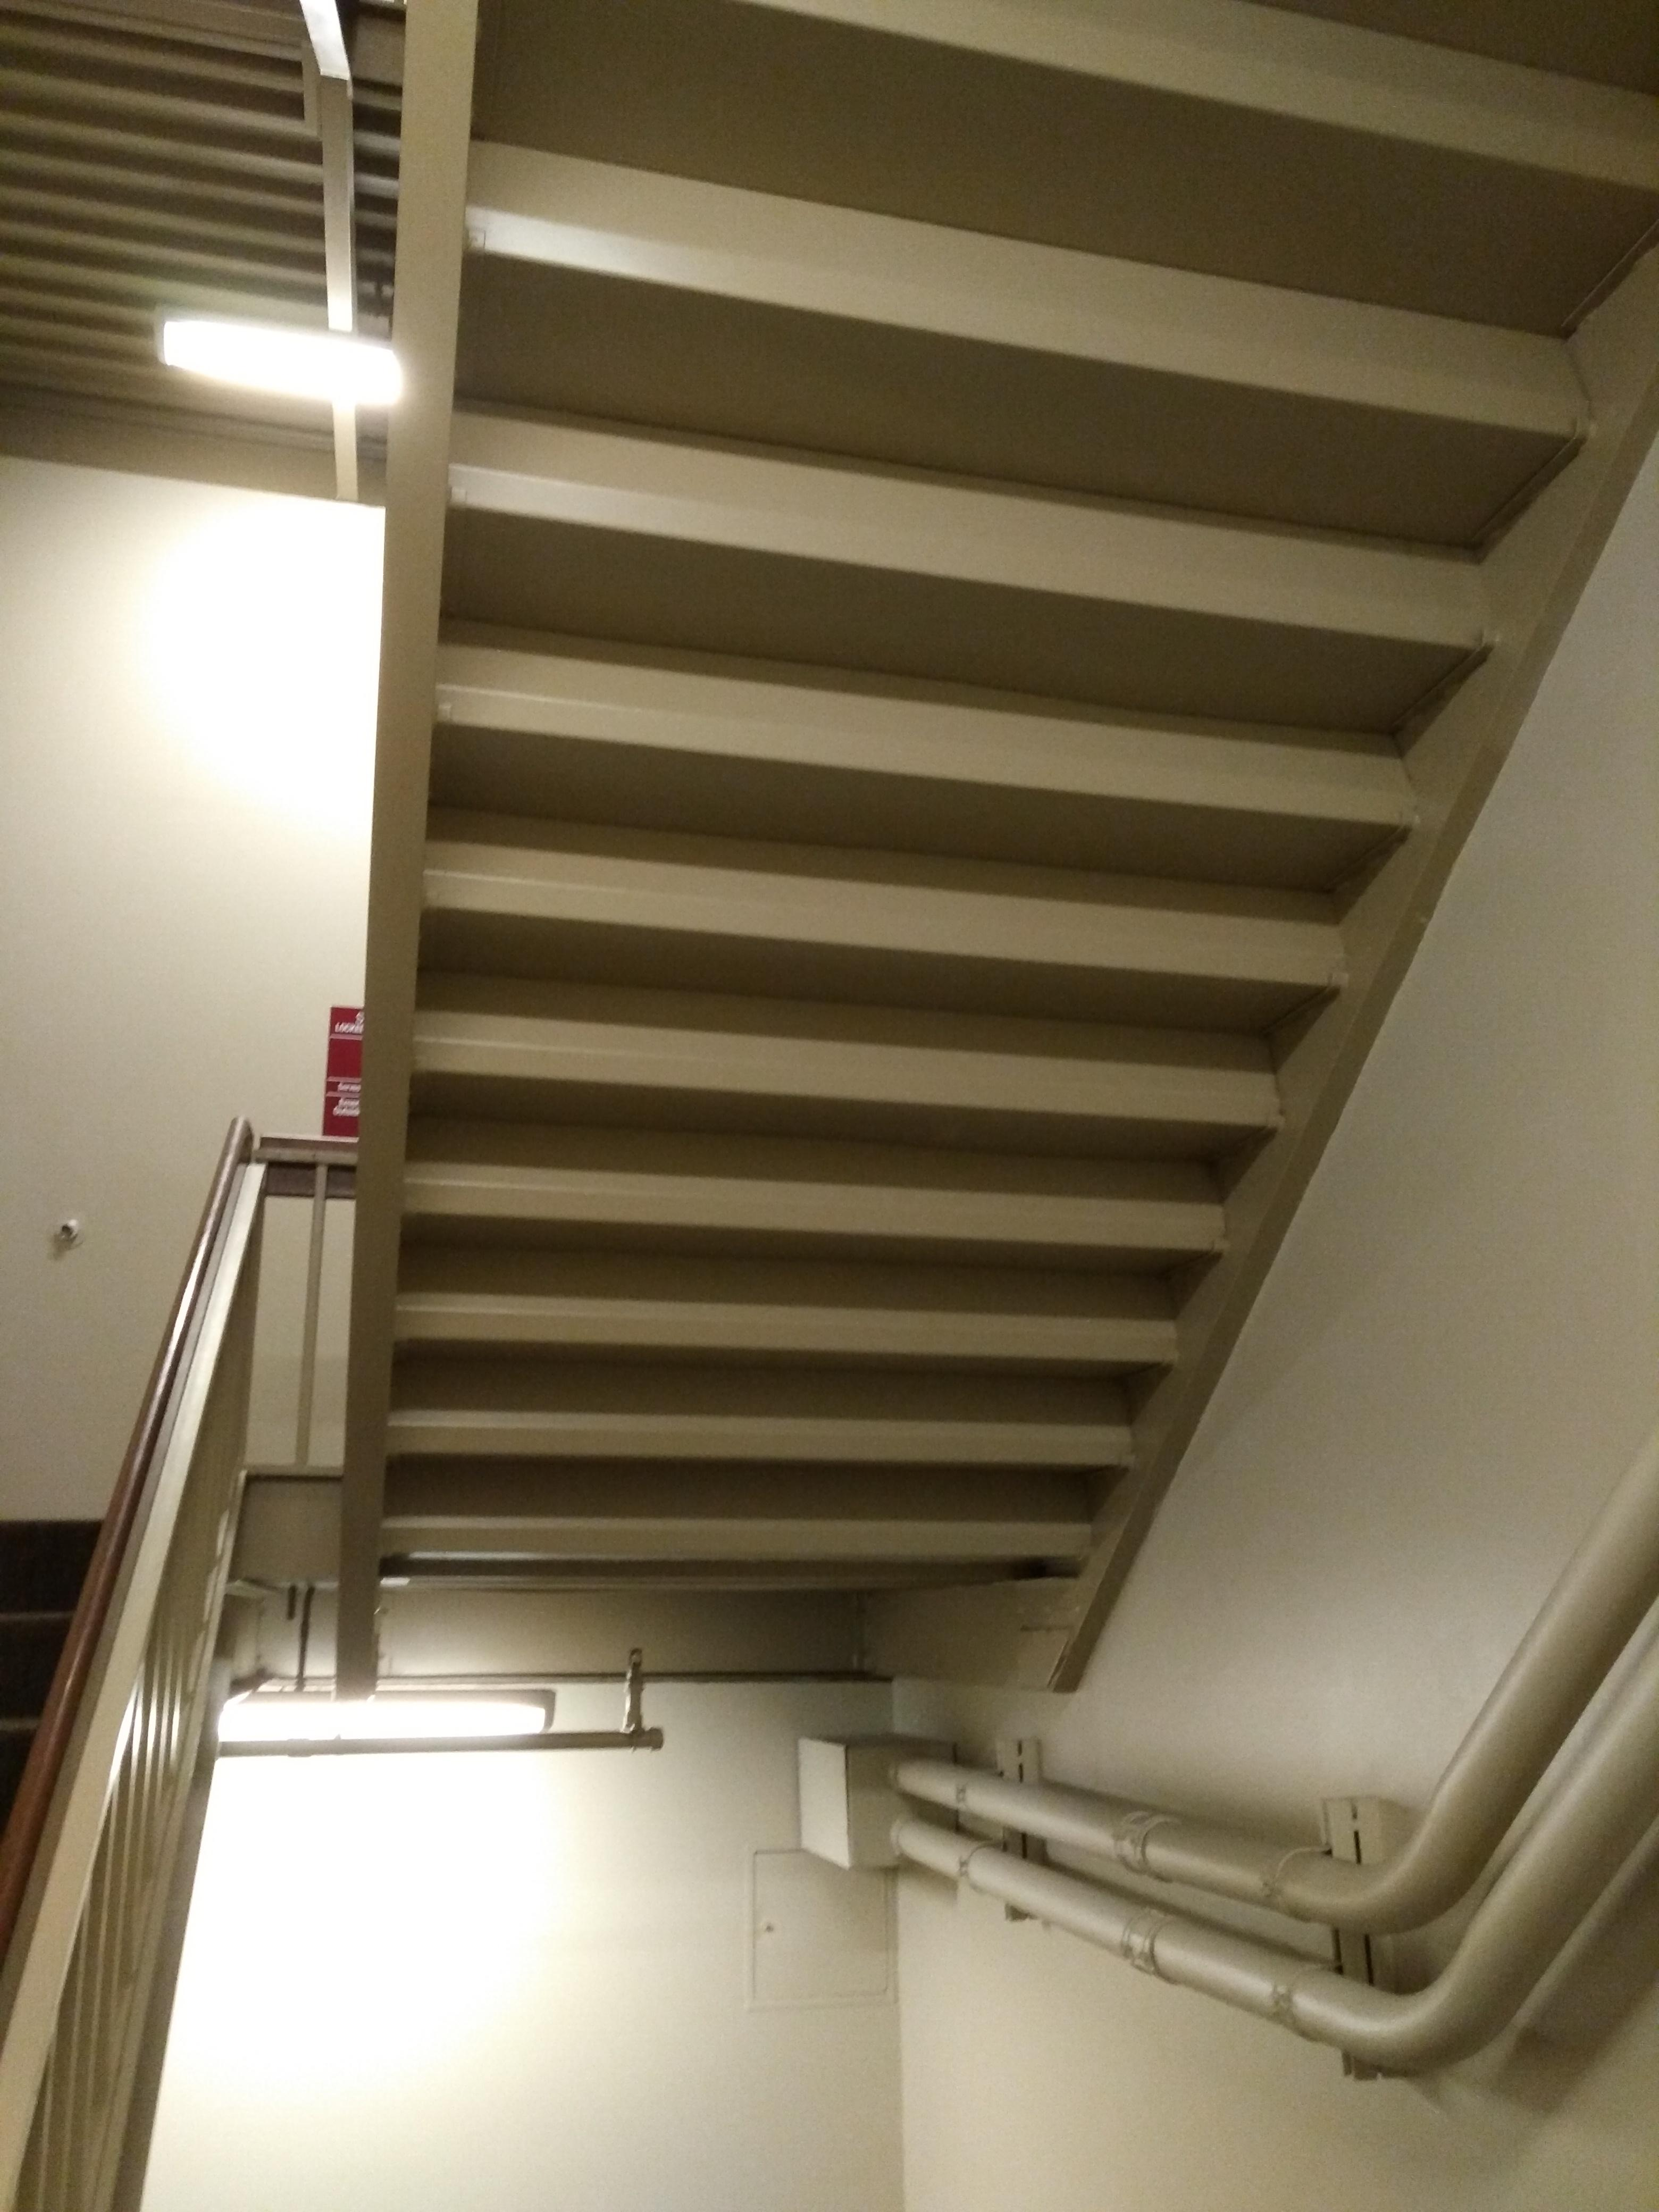staircase: (411, 179, 1377, 1651)
